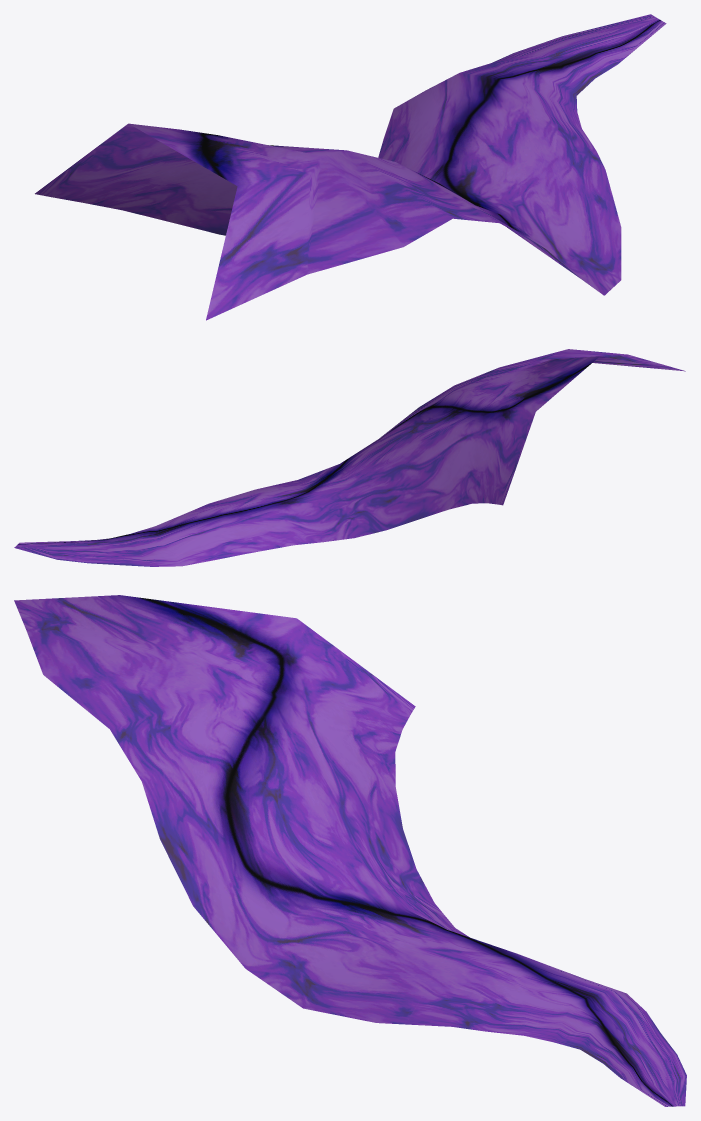
The model's file is FX_lfl_wuqi_802_weiba02.FBX.
The picture shows the model from 3 angles, top to bottom: view 1: azimuth 30°, elevation 25°; view 2: azimuth 150°, elevation 25°; view 3: azimuth 270°, elevation 25°; orthographic projection. The views are drawn at different scales.
Visible parts, largest first — view 1: Plane001; view 2: Plane001; view 3: Plane001.
Part boxes in pixels (left/top/right/bottom): Plane001: left=35, top=14, right=666, bottom=320; Plane001: left=14, top=349, right=685, bottom=566; Plane001: left=14, top=595, right=686, bottom=1106.
Bounding box in the file's own units: 20.33 × 6.65 × 17.71.
1 material, 1 textured.
